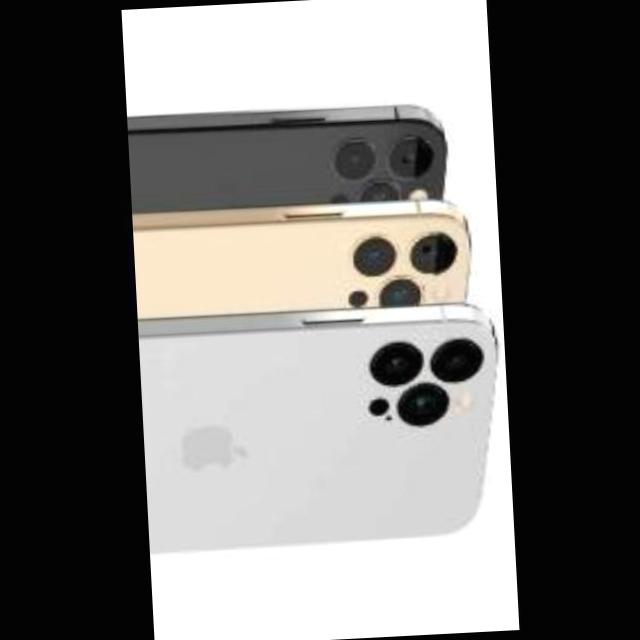lens_back: (427, 334, 488, 386), (366, 339, 426, 391), (395, 380, 451, 430), (330, 132, 380, 184), (384, 132, 436, 181), (406, 230, 458, 277), (350, 235, 400, 279), (376, 278, 422, 308), (354, 177, 401, 204)
phone: (138, 302, 510, 554), (133, 198, 476, 319), (128, 102, 456, 212)
